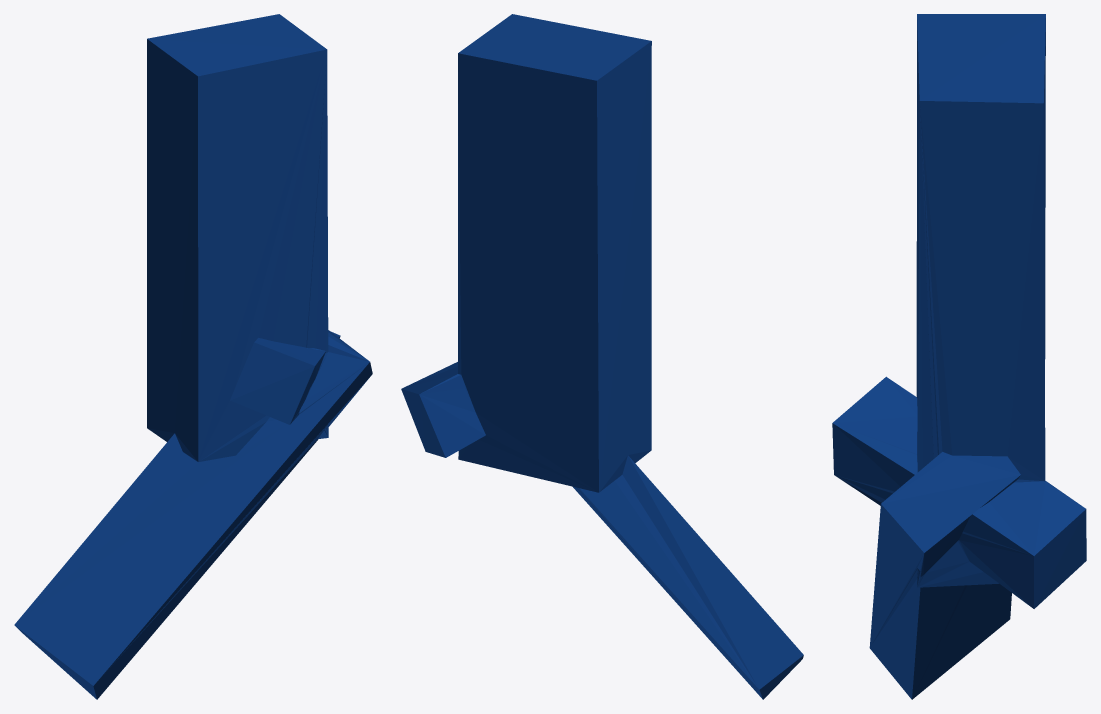
The picture shows the model from 3 angles, left to right: view 1: azimuth 30°, elevation 25°; view 2: azimuth 150°, elevation 25°; view 3: azimuth 270°, elevation 25°; orthographic projection. The views are drawn at different scales.
Visible parts, largest first — view 1: 031_Cube.132; view 2: 031_Cube.132; view 3: 031_Cube.132.
Part boxes in pixels (x1,y1,x2,y2): 031_Cube.132: [14, 14, 372, 699]; 031_Cube.132: [401, 14, 803, 699]; 031_Cube.132: [832, 14, 1086, 699].
Size of the model in its own units: 11.47 by 18.54 by 5.71.
